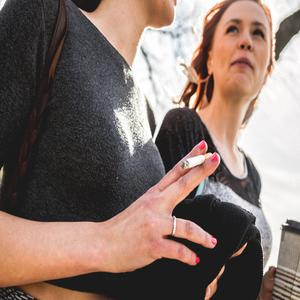cigarette: (176, 152, 212, 173)
